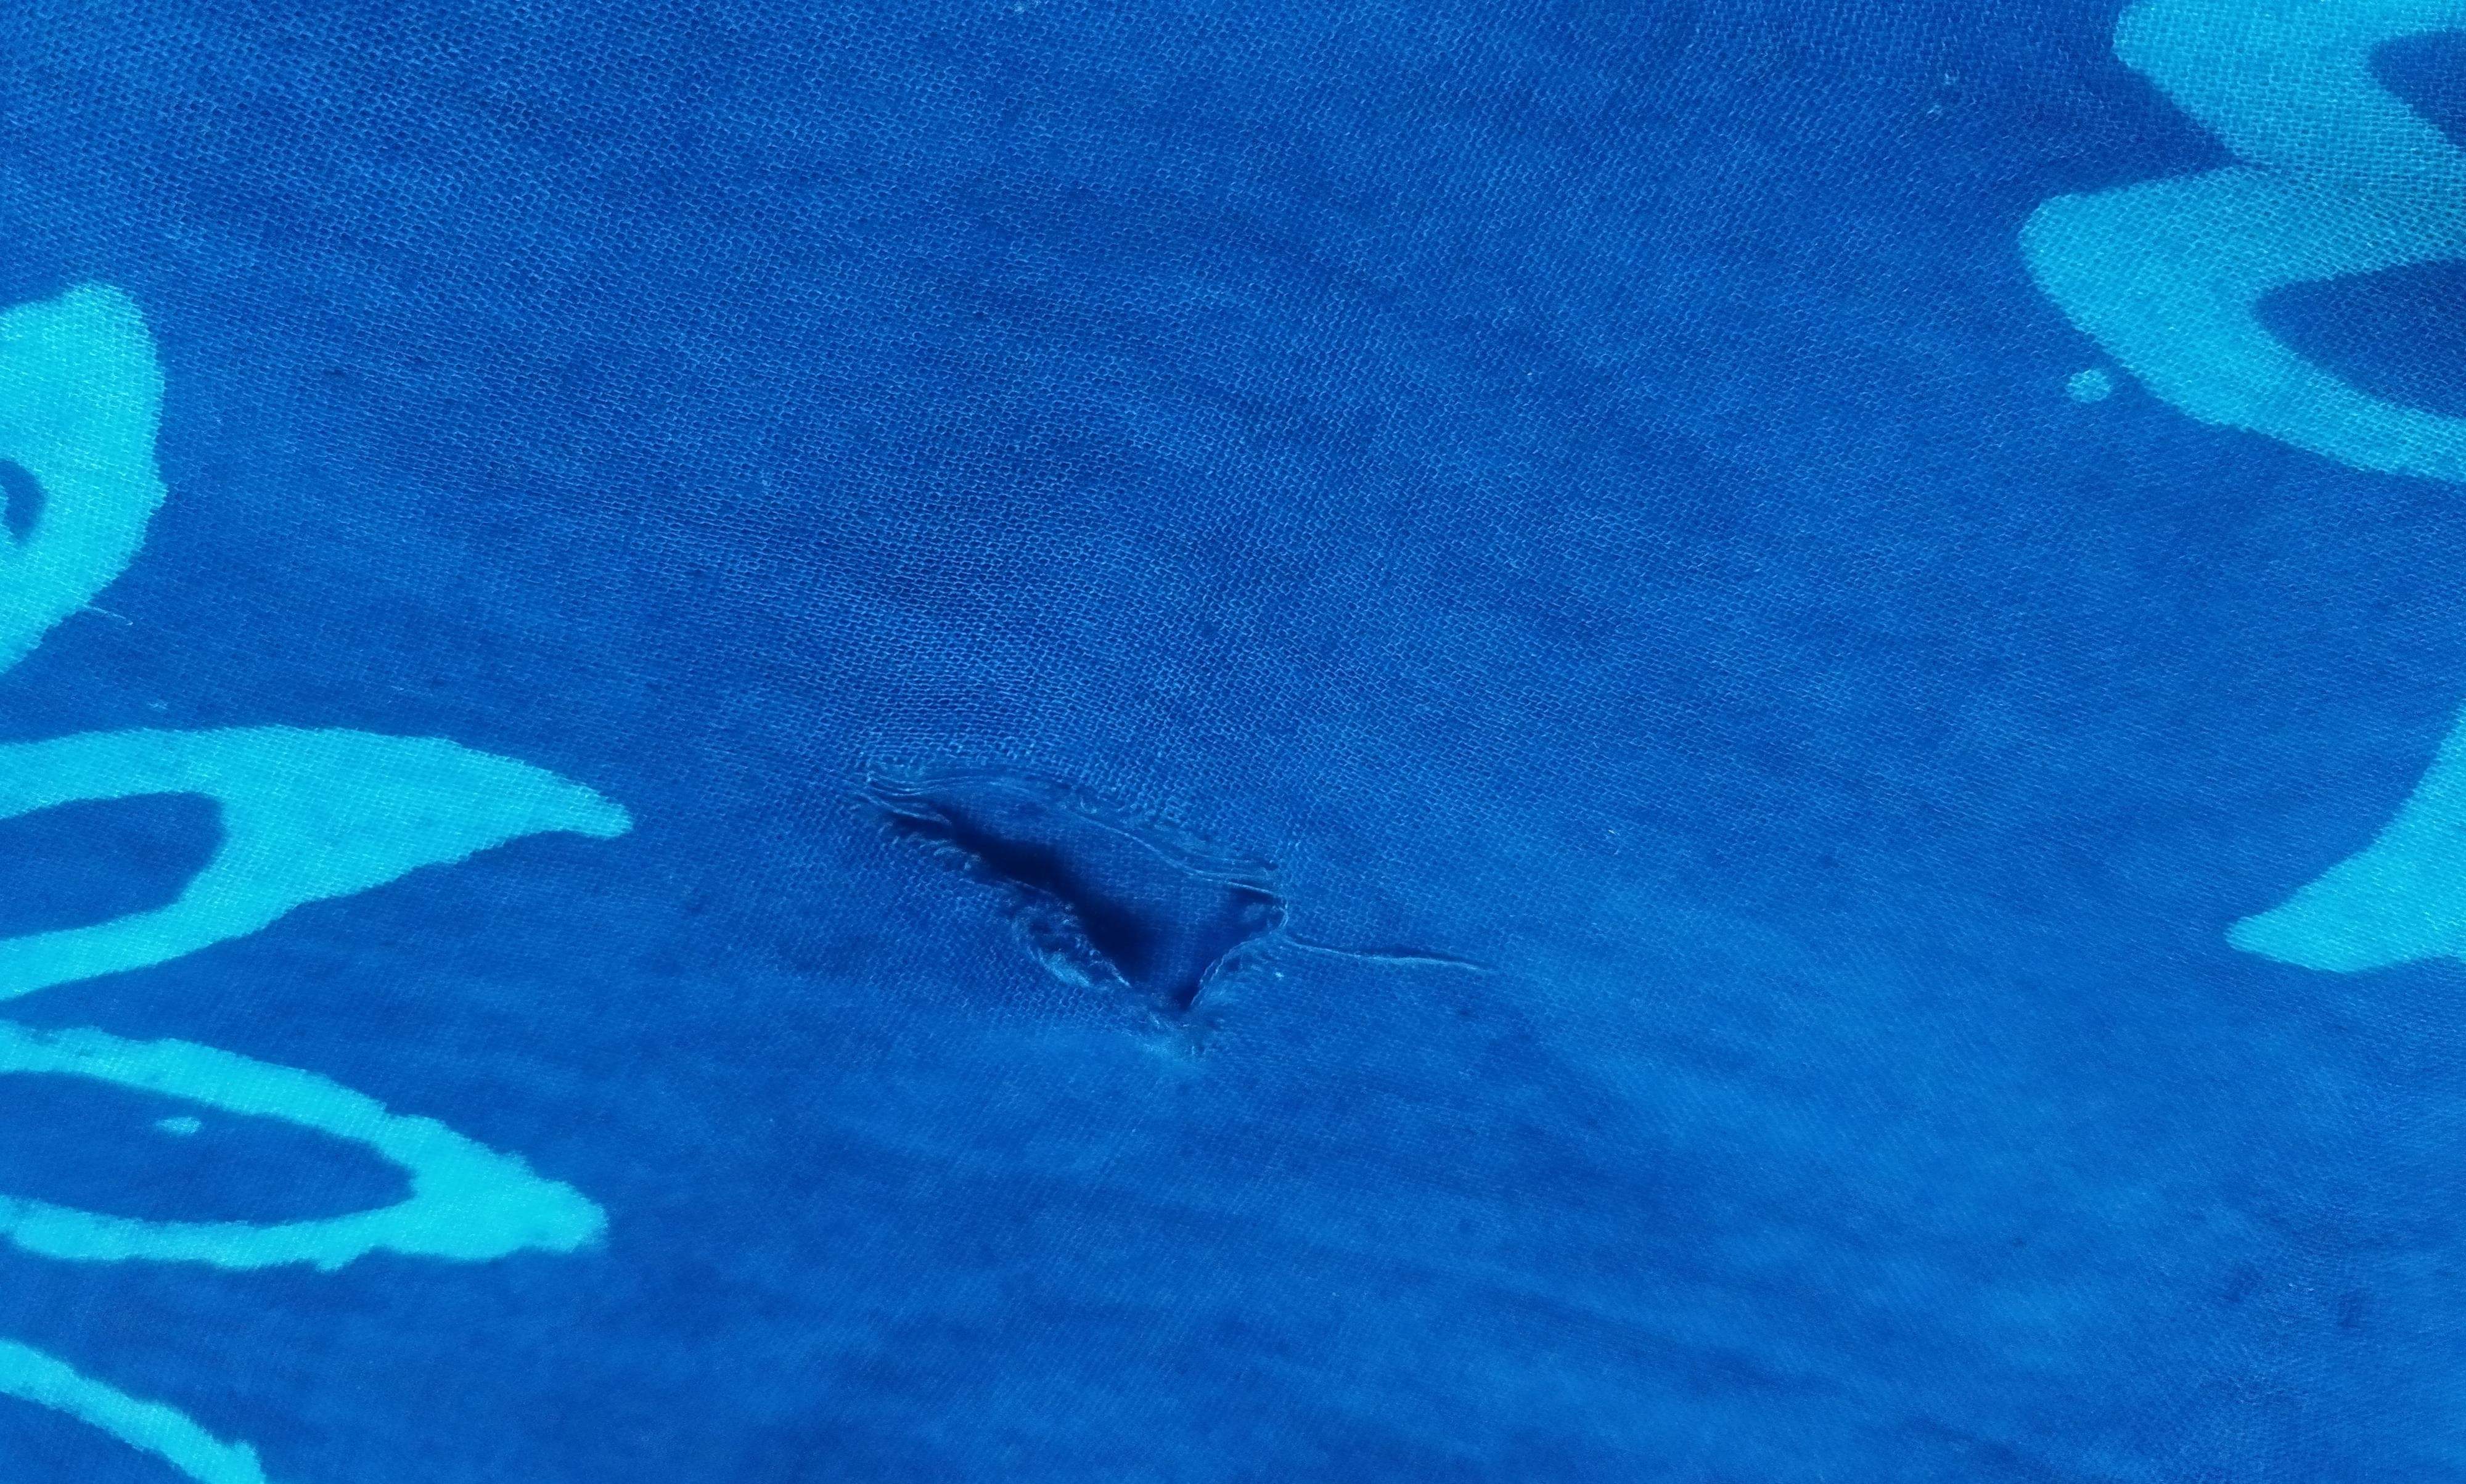hole: (854, 754, 1307, 1056)
